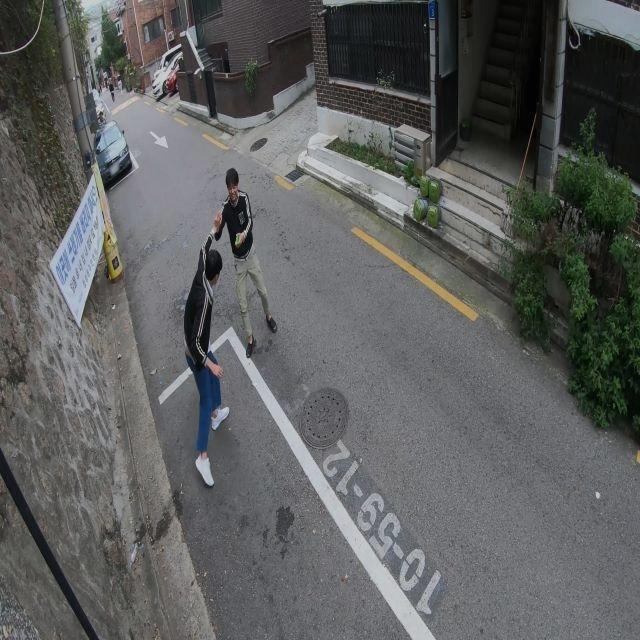fight: (183, 162, 283, 488)
